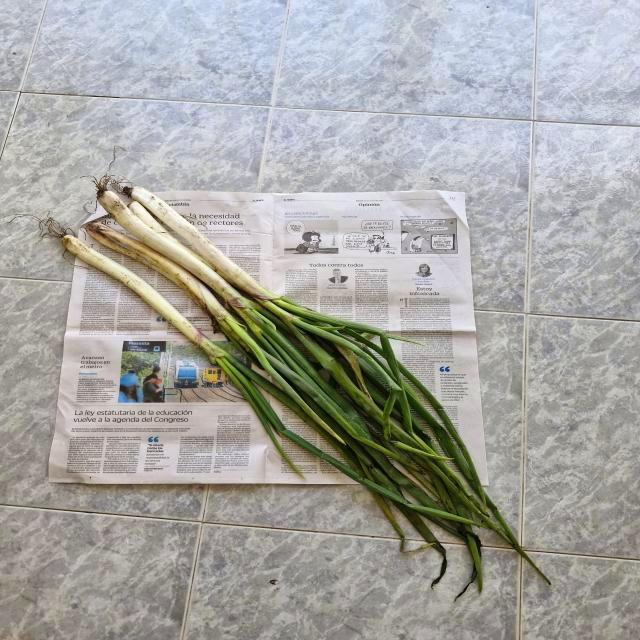green_onion: (91, 175, 434, 449), (63, 223, 269, 407)
